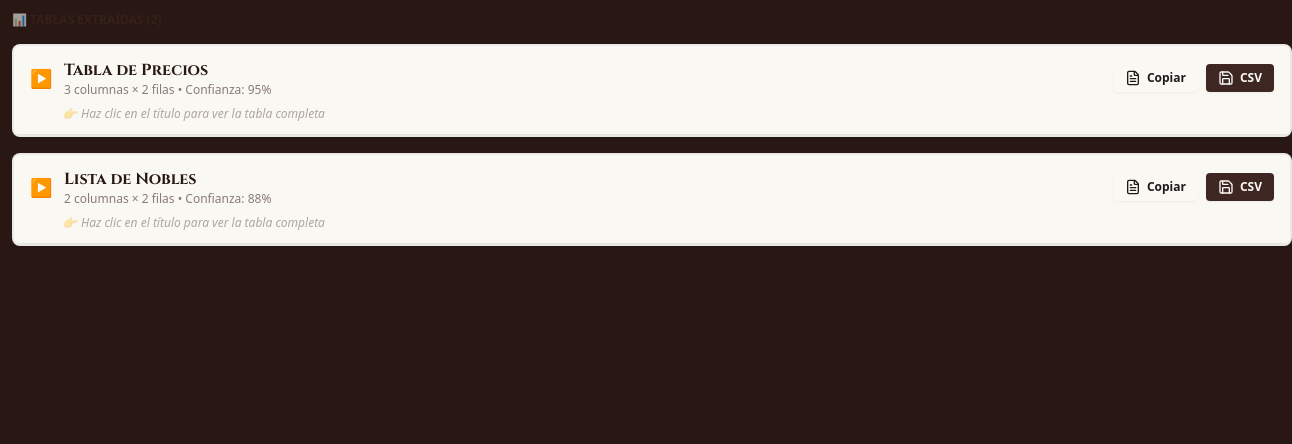
it: TableViewer Component › debe mostrar todos los headers correctamente
Click the text "Tabla de Precios".
click(168, 78)  # box [64,58,271,98]
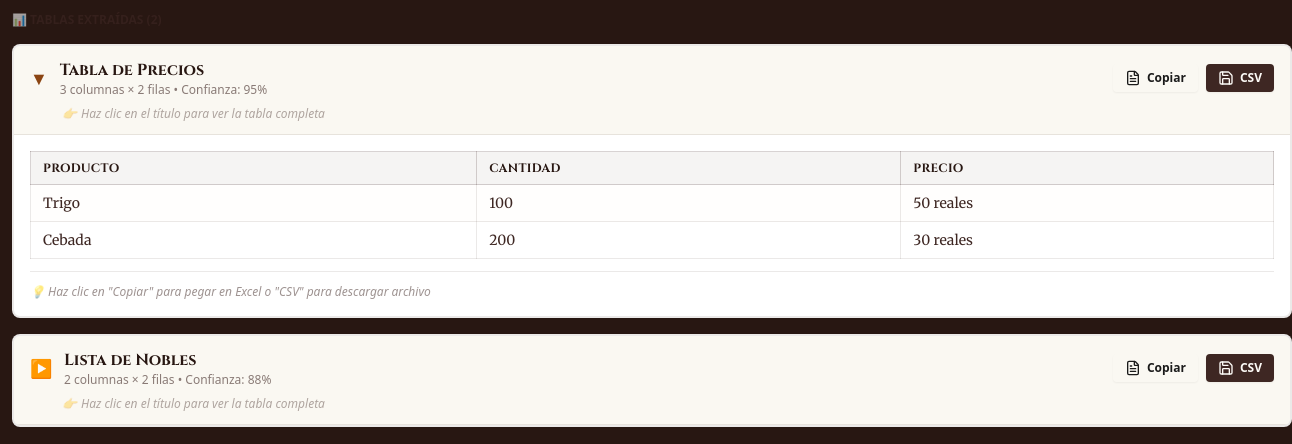
Check: the column heading "Producto" is shown, box [30,152,477,184]
Check: the column heading "Cantidad" is shown, box [477,152,901,184]
Check: the column heading "Precio" is shown, box [901,152,1274,184]
